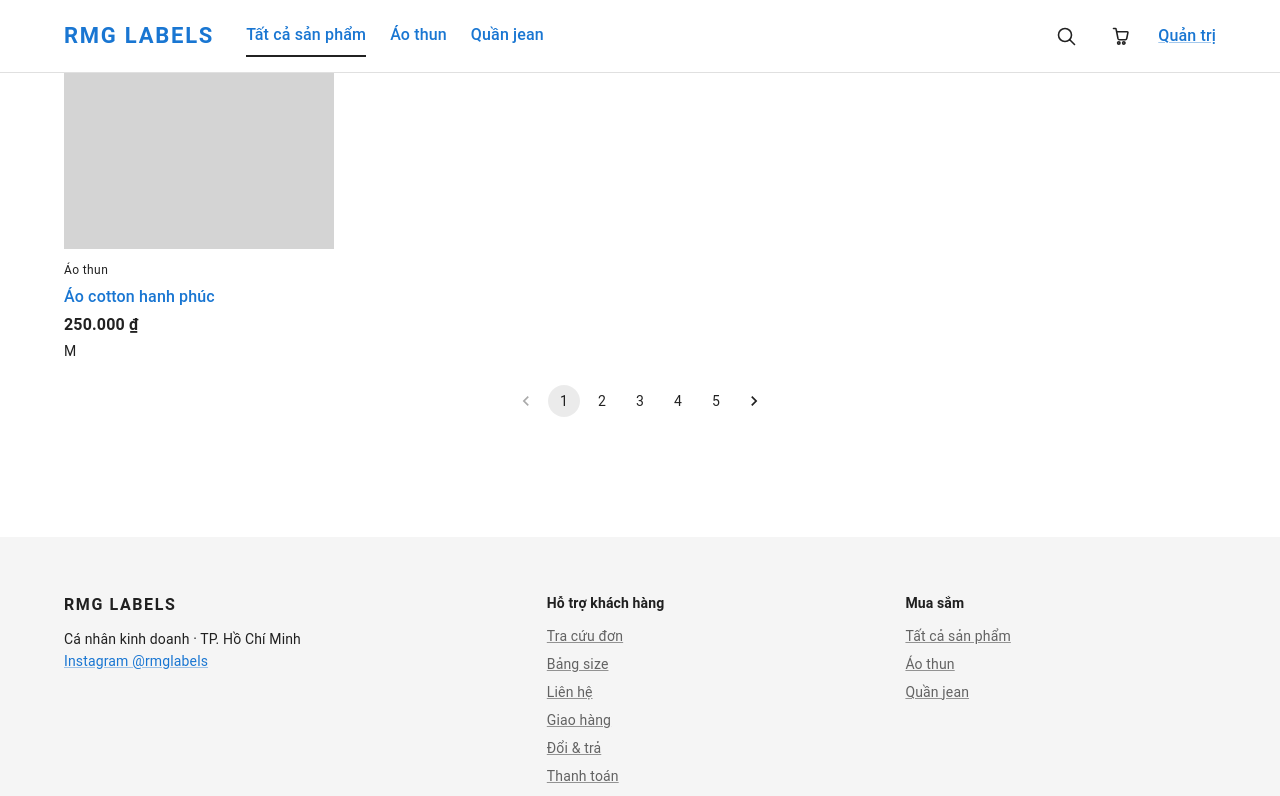
Test case: public shop catalog › paginates through the URL and keeps the search term
The image size is (1280, 796).
(page scrolled)
What coordinates should you click on to do the following:
click the button named "Trang 2"
I would click on:
 (602, 401)
Its box is x1=586 y1=385 x2=618 y2=417.
(page scrolled)
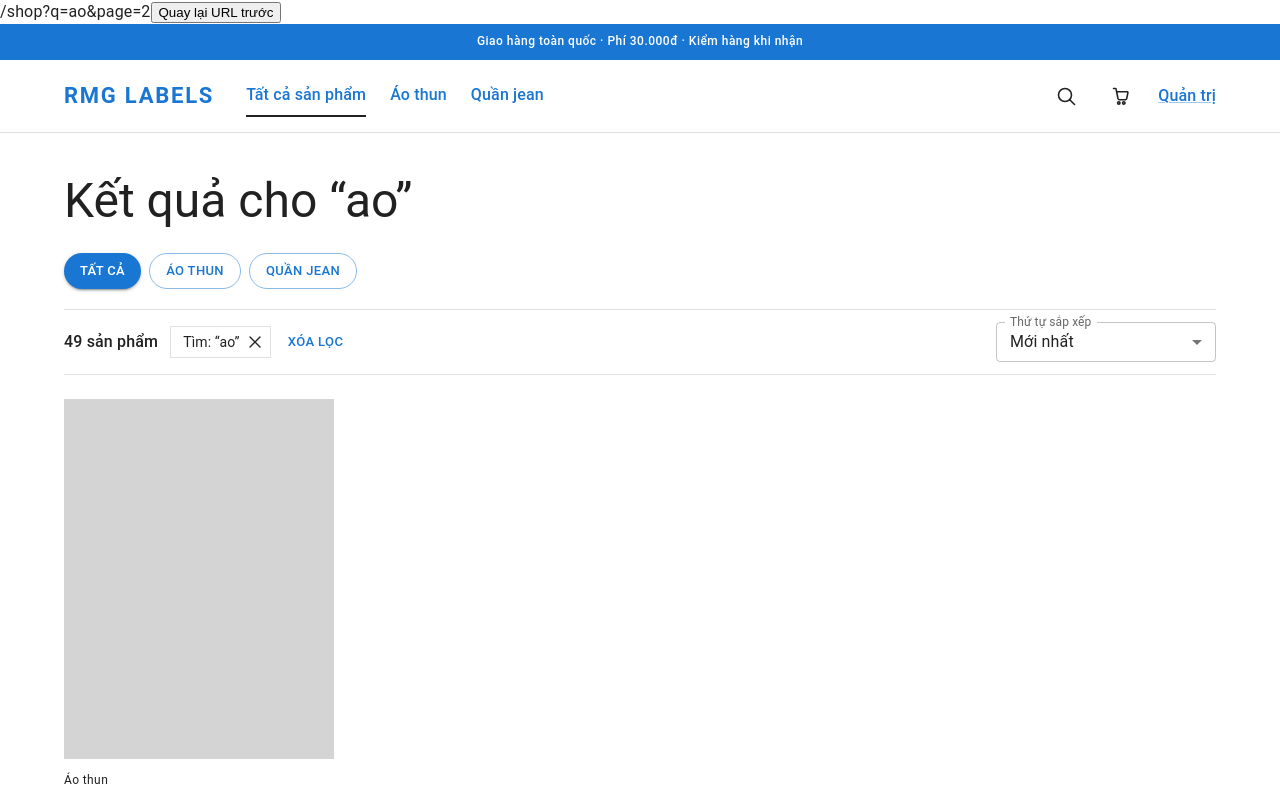
Check: the text with test id "url" shows "q=ao", box x1=42 y1=2 x2=150 y2=21
Check: the text with test id "url" shows "page=2", box x1=42 y1=2 x2=150 y2=21
